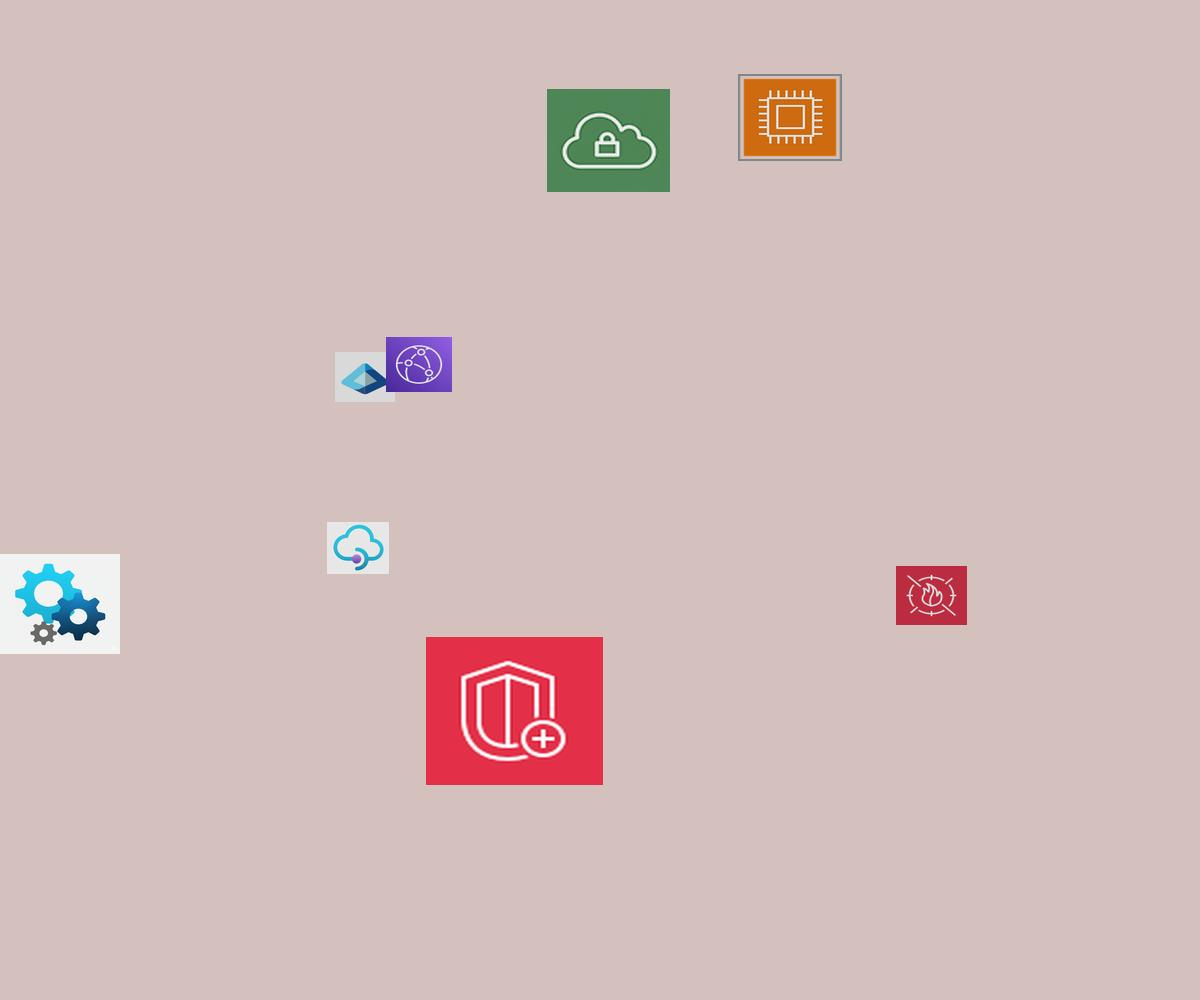AWS-Category_Compute: (738, 74, 842, 161)
AWS-CloudFront: (386, 337, 452, 392)
AWS-Private_vpc: (547, 89, 670, 192)
AWS-Shield: (426, 637, 603, 785)
AWS-WAF: (896, 566, 967, 625)
Azure_api: (0, 554, 120, 654)
Azure_api_gateway: (327, 522, 389, 574)
Azure_microsoft_entra: (335, 352, 395, 402)
